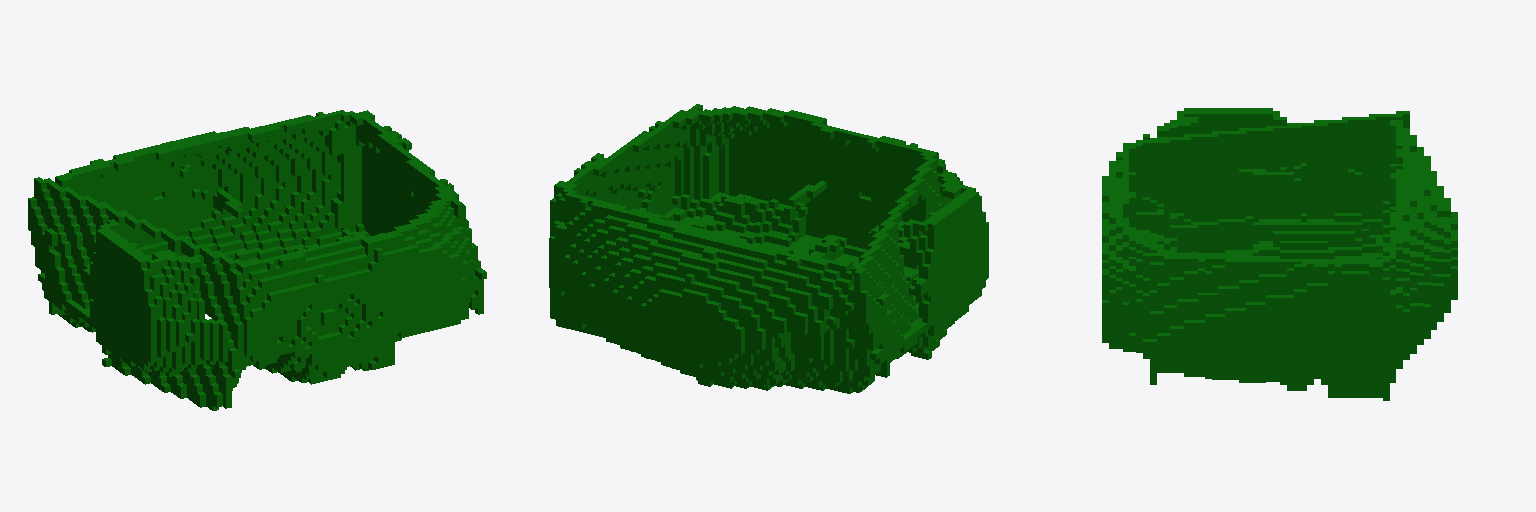
The model's file is Input_surface.obj.
3 renders of one model, left to right at view 1: azimuth 30°, elevation 25°; view 2: azimuth 150°, elevation 25°; view 3: azimuth 270°, elevation 25°, orthographic.
Parts seen in each view (by area): view 1: Cube; view 2: Cube; view 3: Cube.
Part boxes in pixels (bbox=[...]): Cube: bbox=[28, 110, 486, 410]; Cube: bbox=[549, 104, 988, 393]; Cube: bbox=[1102, 108, 1457, 400].
Size of the model in its own units: 4.4 by 1.76 by 4.16.